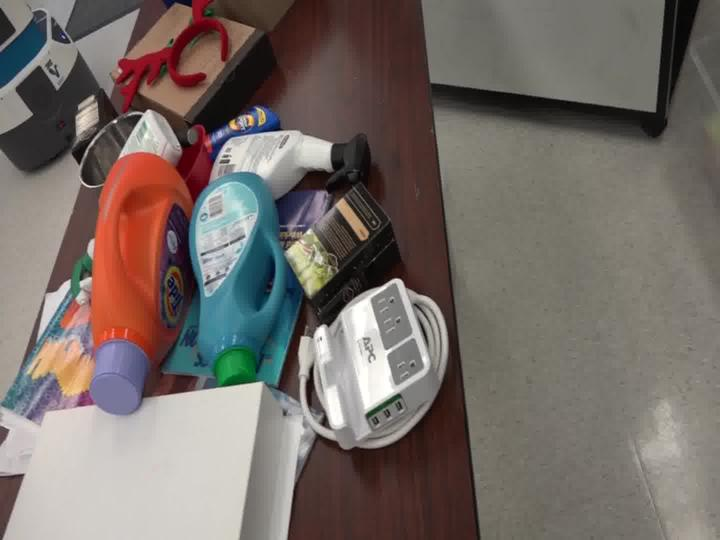tide: (90, 125, 191, 407)
